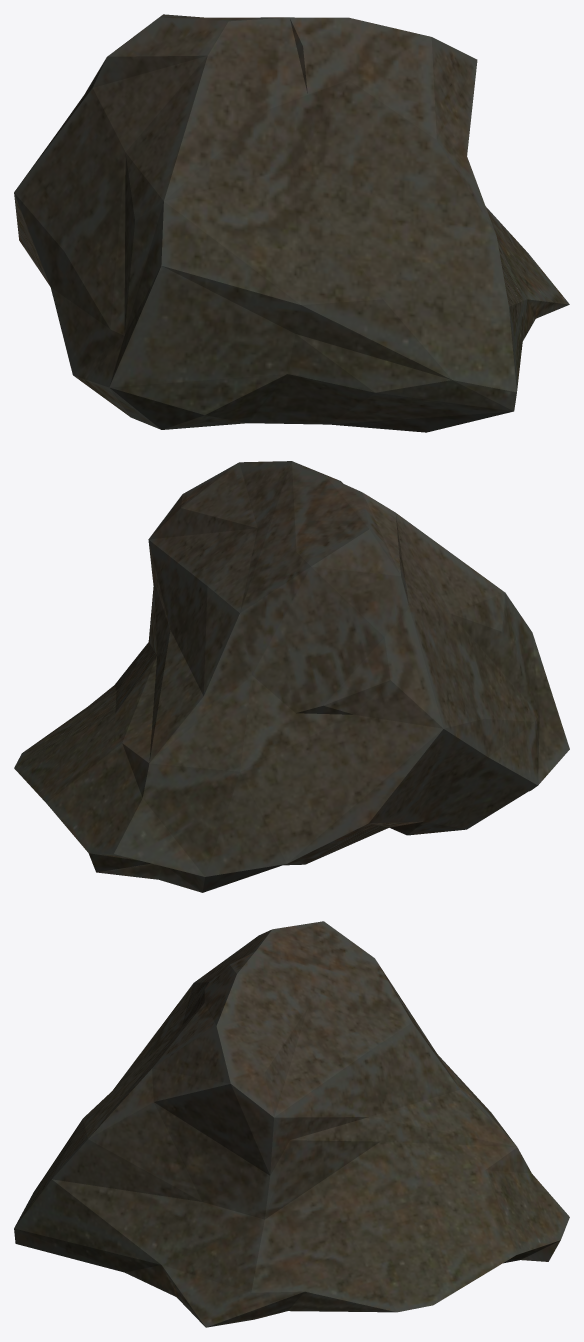
Rendered from piedra_stone_08.glb.
The picture shows the model from 3 angles, top to bottom: view 1: azimuth 30°, elevation 25°; view 2: azimuth 150°, elevation 25°; view 3: azimuth 270°, elevation 25°; orthographic projection. The views are drawn at different scales.
Parts seen in each view (by area): view 1: Stone_08; view 2: Stone_08; view 3: Stone_08.
Boxes of the visible parts, bbox=[...] form: Stone_08: bbox=[14, 14, 569, 432]; Stone_08: bbox=[14, 461, 569, 892]; Stone_08: bbox=[14, 921, 569, 1327].
Bounding box in the file's own units: 0.8333 × 0.573 × 1.
1 material, 1 textured.
